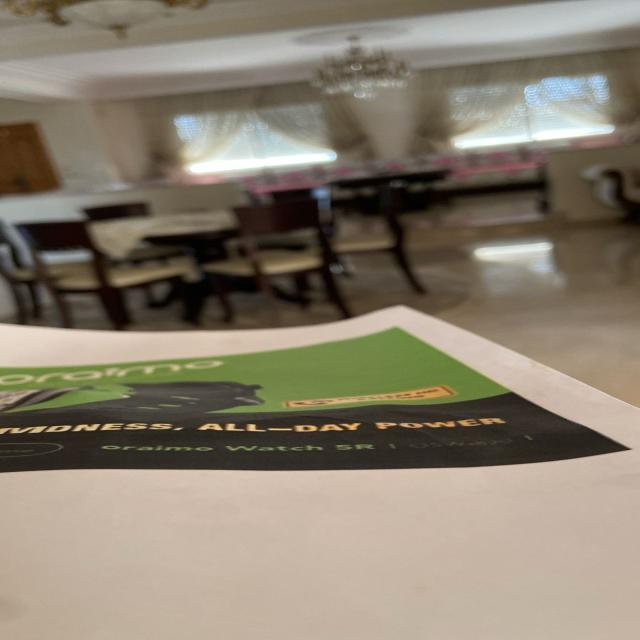Oraimo Watch 5R OSW-820: (101, 426, 558, 460)
